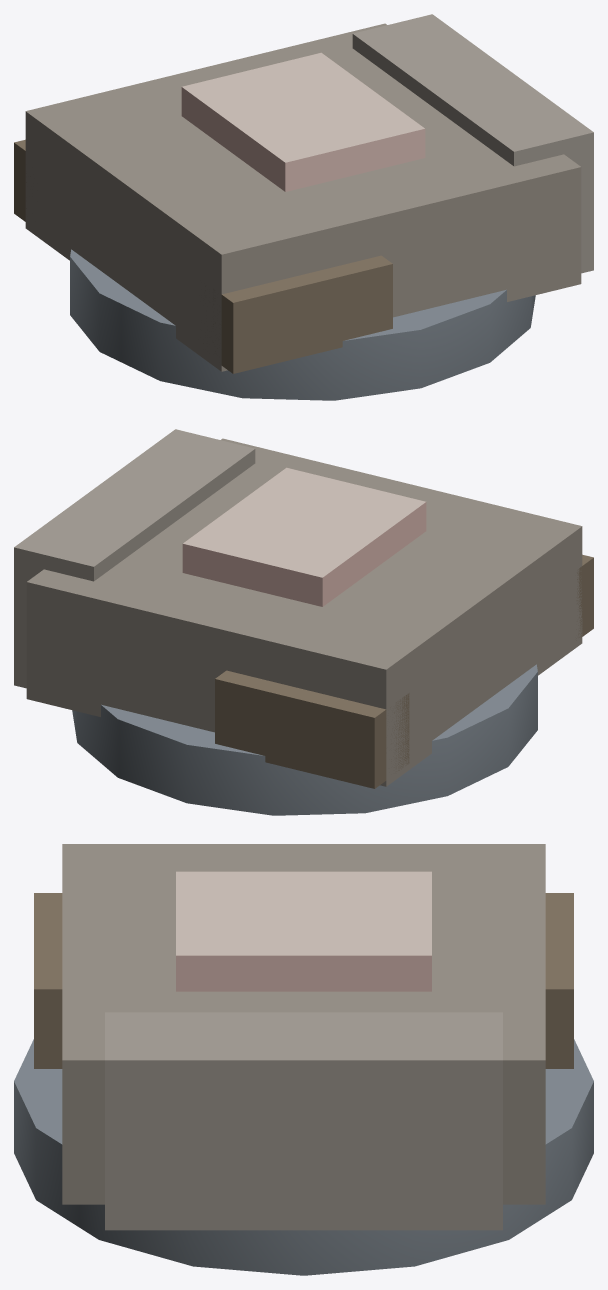
Rendered from t_shotgun.glb.
The picture shows the model from 3 angles, top to bottom: view 1: azimuth 30°, elevation 25°; view 2: azimuth 150°, elevation 25°; view 3: azimuth 270°, elevation 25°; orthographic projection. The views are drawn at different scales.
Visible parts, largest first — view 1: t_shotgun; view 2: t_shotgun; view 3: t_shotgun.
Part boxes in pixels (box(x1,y1,x2,y2)): t_shotgun: box(14, 14, 593, 400); t_shotgun: box(14, 429, 593, 815); t_shotgun: box(14, 844, 593, 1275).
Size of the model in its own units: 2.07 by 0.93 by 2.04.
